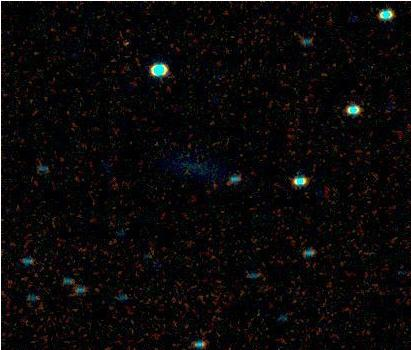star: (111, 27, 141, 57)
